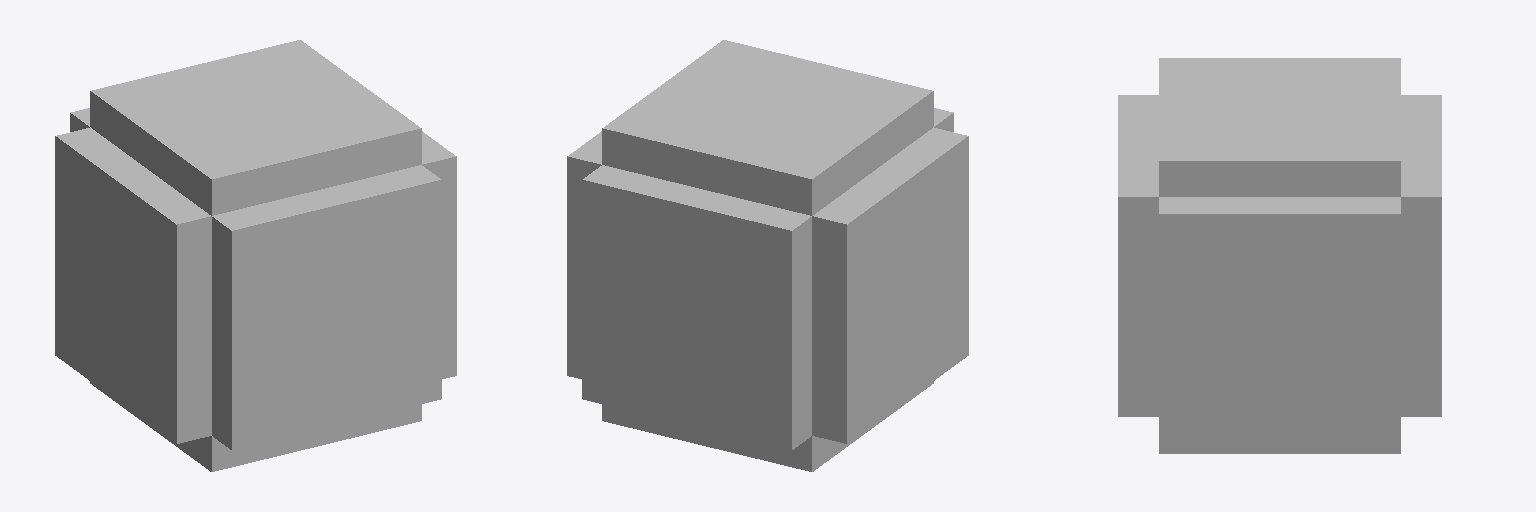
The model's file is square_pipe.obj.
3 renders of one model, left to right at view 1: azimuth 30°, elevation 25°; view 2: azimuth 150°, elevation 25°; view 3: azimuth 270°, elevation 25°, orthographic.
Visible parts, largest first — view 1: NODE_NY_Cube.008, NODE_NX_Cube.011, NODE_PZ_Cube.003, NODE_NZ_Cube.012, NODE_PX_Cube.010; view 2: NODE_PY_Cube.009, NODE_NX_Cube.011, NODE_PZ_Cube.003, NODE_NZ_Cube.012, NODE_PX_Cube.010; view 3: NODE_PX_Cube.010, NODE_PZ_Cube.003, NODE_NY_Cube.008, NODE_PY_Cube.009, NODE_NZ_Cube.012.
Part boxes in pixels (x1,y1,x2,y2): NODE_NY_Cube.008: (212, 165, 441, 449); NODE_NX_Cube.011: (55, 127, 211, 443); NODE_PZ_Cube.003: (90, 40, 421, 215); NODE_NZ_Cube.012: (90, 381, 421, 471); NODE_PX_Cube.010: (422, 131, 456, 378); NODE_PY_Cube.009: (582, 165, 811, 449); NODE_NX_Cube.011: (812, 127, 968, 443); NODE_PZ_Cube.003: (602, 40, 933, 215); NODE_NZ_Cube.012: (602, 381, 933, 471); NODE_PX_Cube.010: (567, 131, 601, 378); NODE_PX_Cube.010: (1159, 197, 1400, 433); NODE_PZ_Cube.003: (1159, 58, 1400, 196); NODE_NY_Cube.008: (1118, 95, 1158, 416); NODE_PY_Cube.009: (1401, 95, 1441, 416); NODE_NZ_Cube.012: (1159, 434, 1400, 453).
Size of the model in its own units: 1 by 1 by 1.